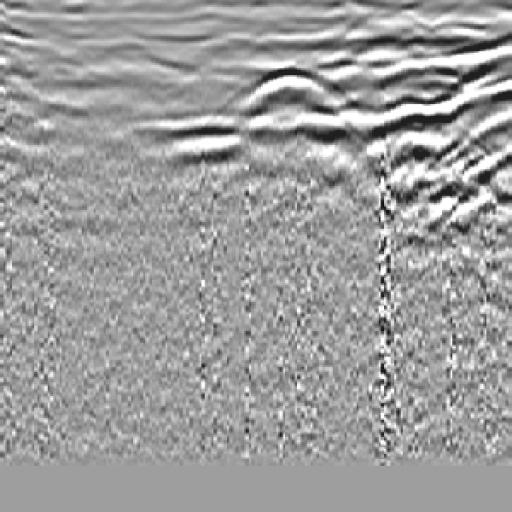metalic: (221, 64, 359, 122)
non-metallic: (401, 33, 512, 235)
